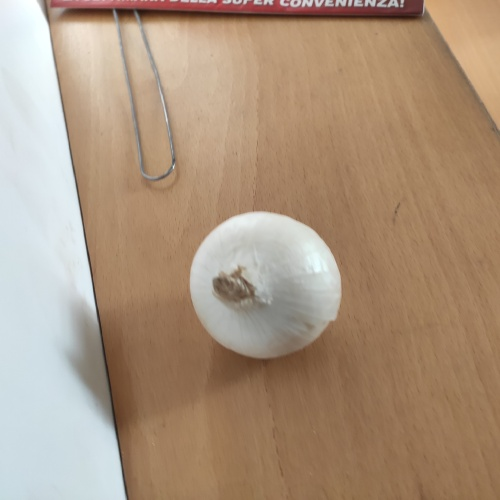cipolla: (182, 204, 352, 367)
